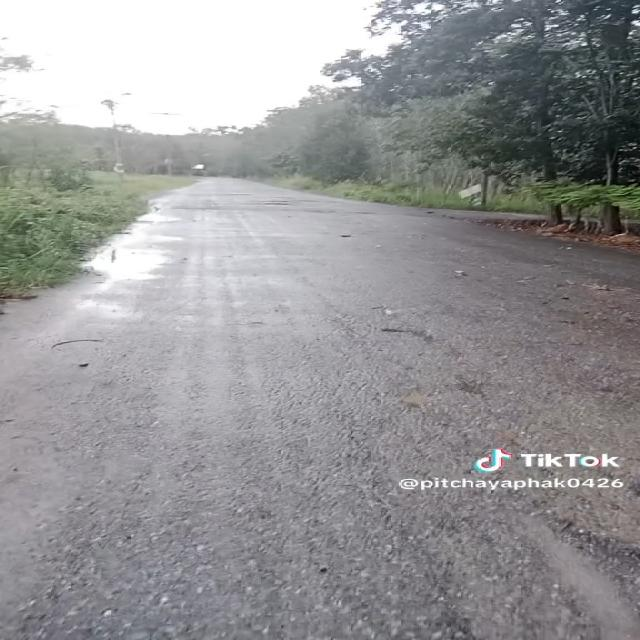Poth-hole: (251, 190, 300, 217)
